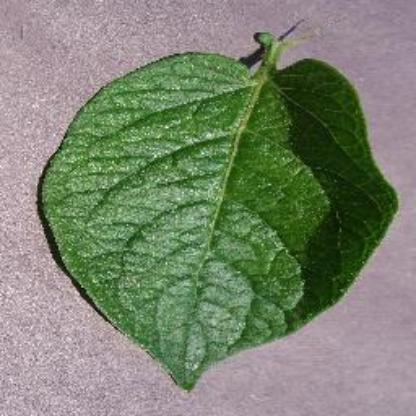Healthy-plant: (32, 26, 402, 392)
